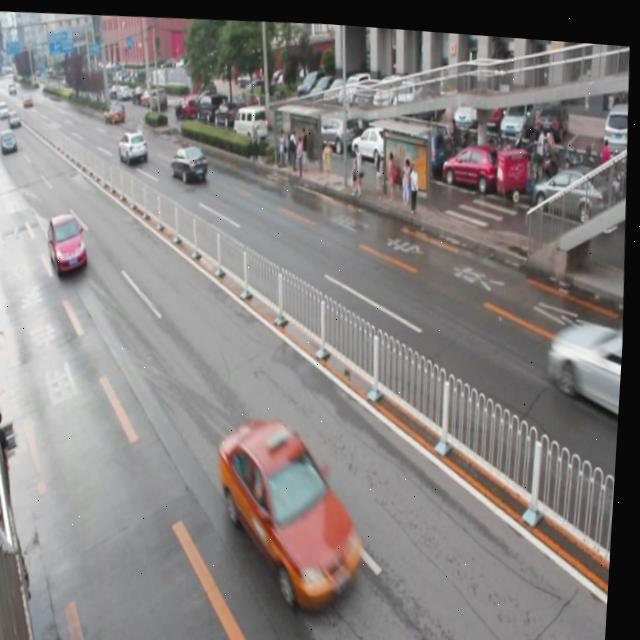car: (216, 410, 376, 609), (553, 307, 627, 401), (47, 209, 92, 275), (170, 140, 211, 180), (118, 127, 150, 161)
